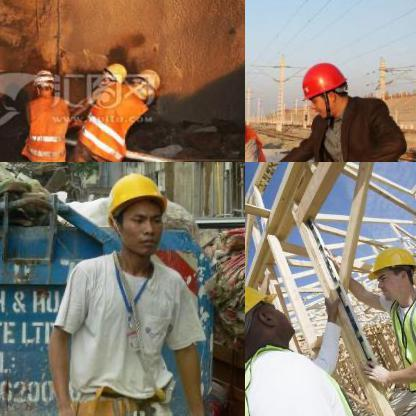Helmet: (99, 162, 174, 258), (245, 270, 293, 359), (361, 237, 415, 305), (294, 58, 348, 118), (124, 66, 158, 100), (102, 56, 128, 94), (29, 66, 55, 94)
